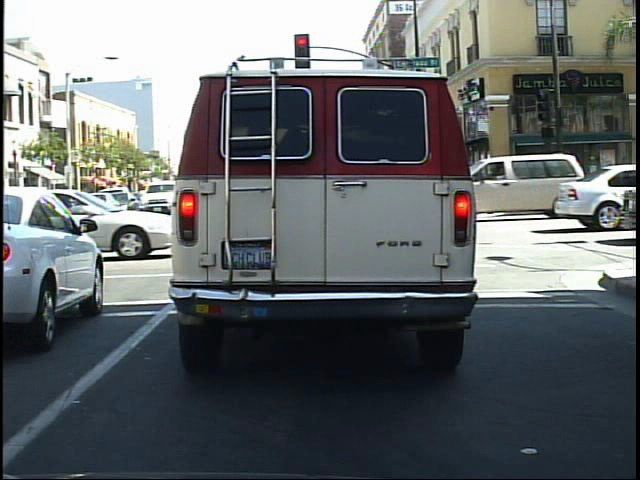person: (536, 154, 563, 215), (516, 157, 541, 215), (484, 156, 504, 214), (494, 164, 514, 212)
